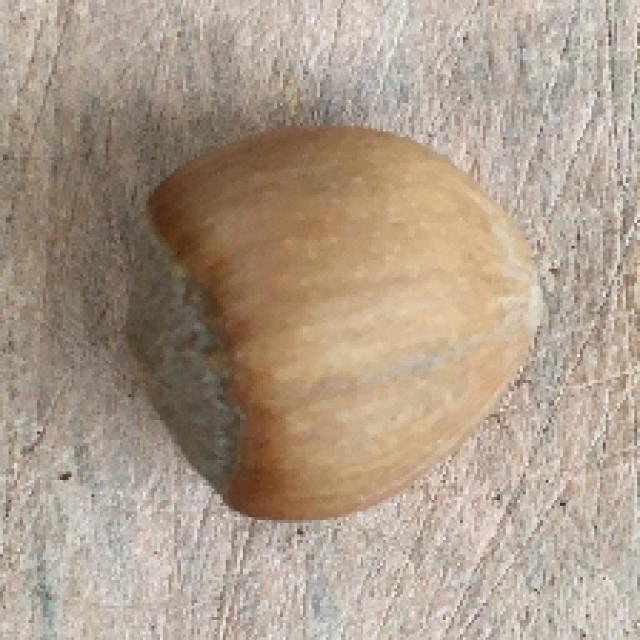damagedHazelnut: (113, 120, 548, 532)
